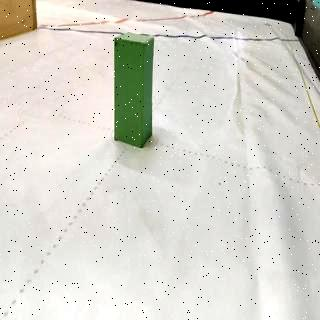greenbox: (112, 32, 155, 150)
